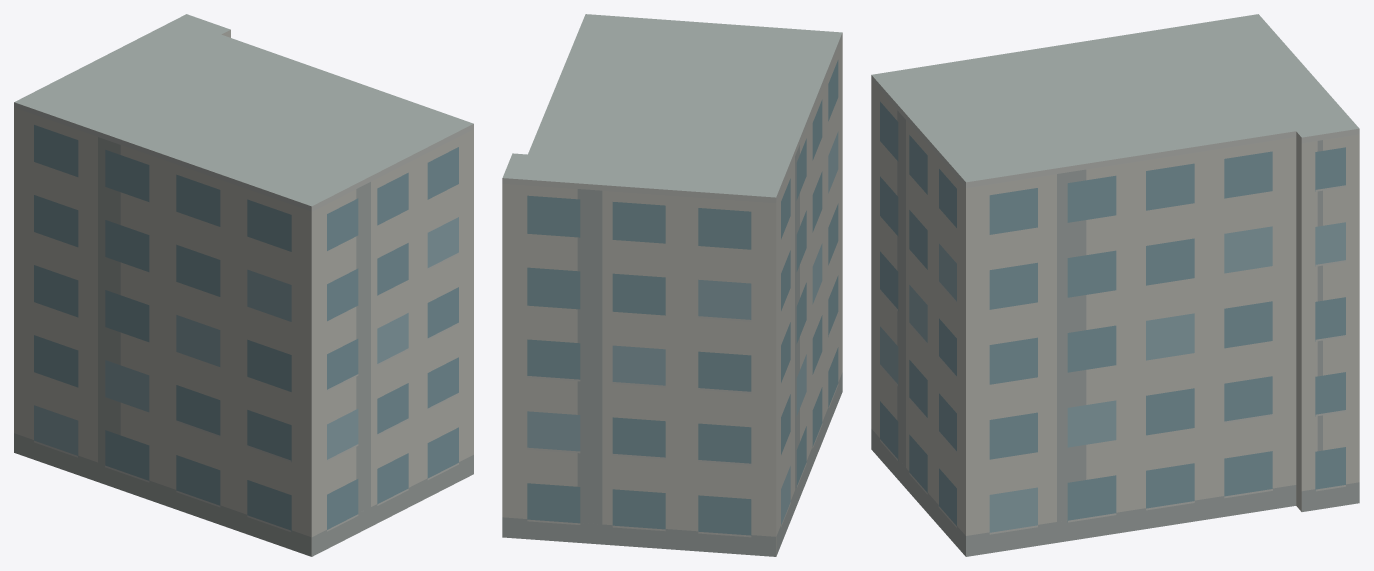
Rendered from survey-upis-32730065.glb.
3 views of the same model, side by side, from view 1: azimuth 30°, elevation 25°; view 2: azimuth 150°, elevation 25°; view 3: azimuth 270°, elevation 25° (orthographic). The views are drawn at different scales.
Visible parts, largest first — view 1: survey-upis-32730065.tmp; view 2: survey-upis-32730065.tmp; view 3: survey-upis-32730065.tmp.
Part boxes in pixels (box(x1,y1,x2,y2)): survey-upis-32730065.tmp: box(14, 14, 473, 556); survey-upis-32730065.tmp: box(502, 14, 842, 556); survey-upis-32730065.tmp: box(871, 14, 1359, 556).
Size of the model in its own units: 15.24 by 15.8 by 18.67.
